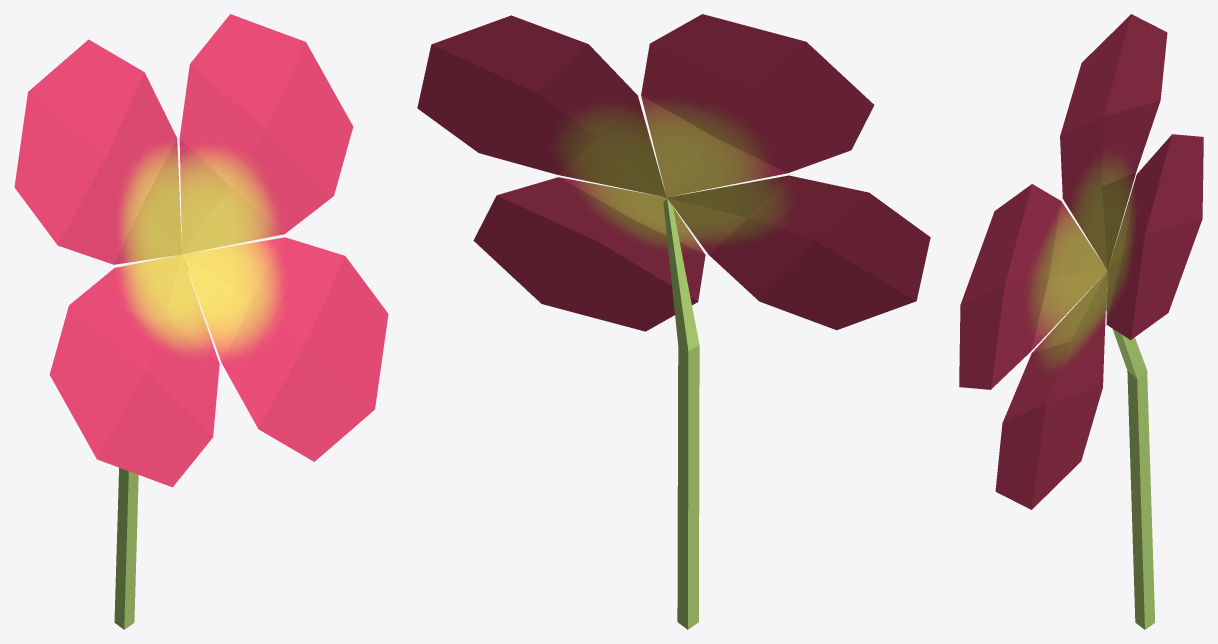
Rendered from Flower_c_OneS_04.fbx.
3 renders of one model, left to right at view 1: azimuth 30°, elevation 25°; view 2: azimuth 150°, elevation 25°; view 3: azimuth 270°, elevation 25°, orthographic. The views are drawn at different scales.
Visible parts, largest first — view 1: Flower_c_OneS_04; view 2: Flower_c_OneS_04; view 3: Flower_c_OneS_04.
Boxes of the visible parts, x1,y1,x2,y2 form: Flower_c_OneS_04: (14,14,388,629); Flower_c_OneS_04: (417,14,930,629); Flower_c_OneS_04: (959,14,1203,629).
Bounding box in the file's own units: 0.2742 × 0.3908 × 0.1492.
